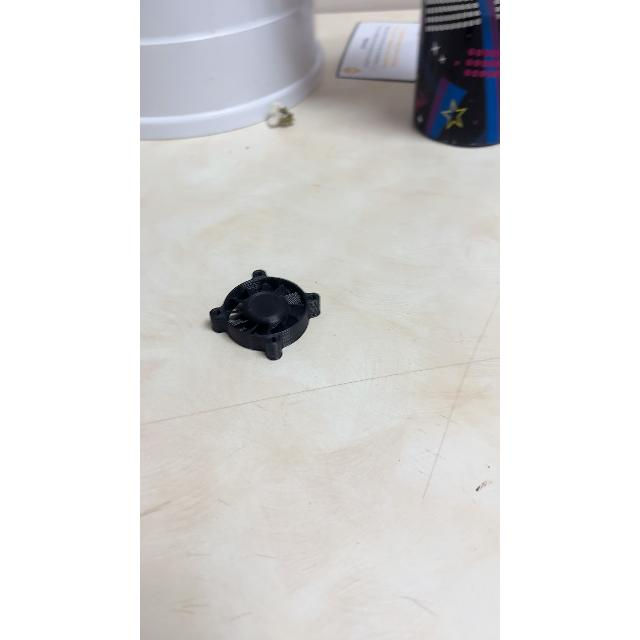Pieza_4: (202, 264, 332, 370)
